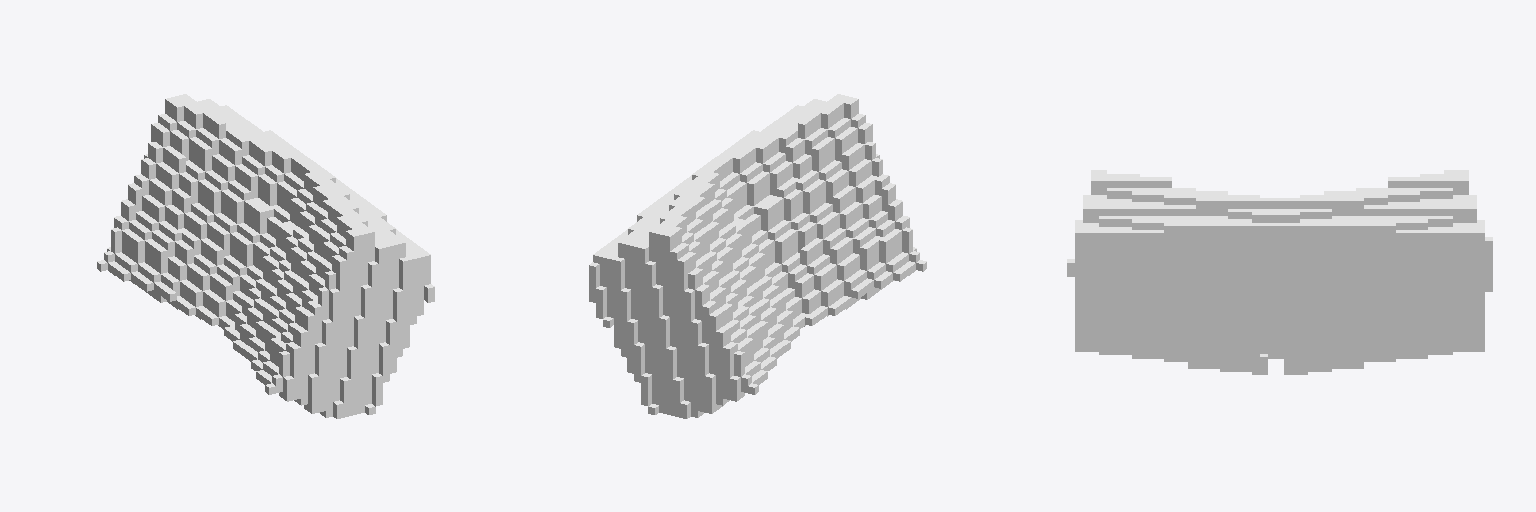
File: goodnight-moon-10-awake-pillow.obj
3 renders of one model, left to right at view 1: azimuth 30°, elevation 25°; view 2: azimuth 150°, elevation 25°; view 3: azimuth 270°, elevation 25°, orthographic.
Parts seen in each view (by area): view 1: awake-pillow; view 2: awake-pillow; view 3: awake-pillow.
Part boxes in pixels (x1,y1,x2,y2): awake-pillow: (97,94,434,418); awake-pillow: (589,94,926,418); awake-pillow: (1067,170,1492,374).
Bounding box in the file's own units: 2.1 × 2.4 × 5.3.